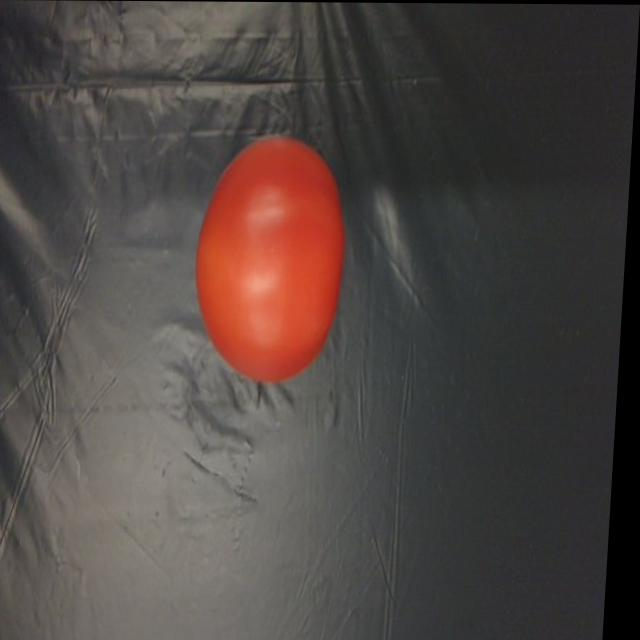kirmizi: (196, 127, 357, 394)
